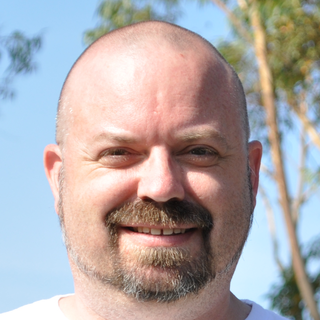eye: (94, 140, 144, 169), (175, 138, 222, 165)
